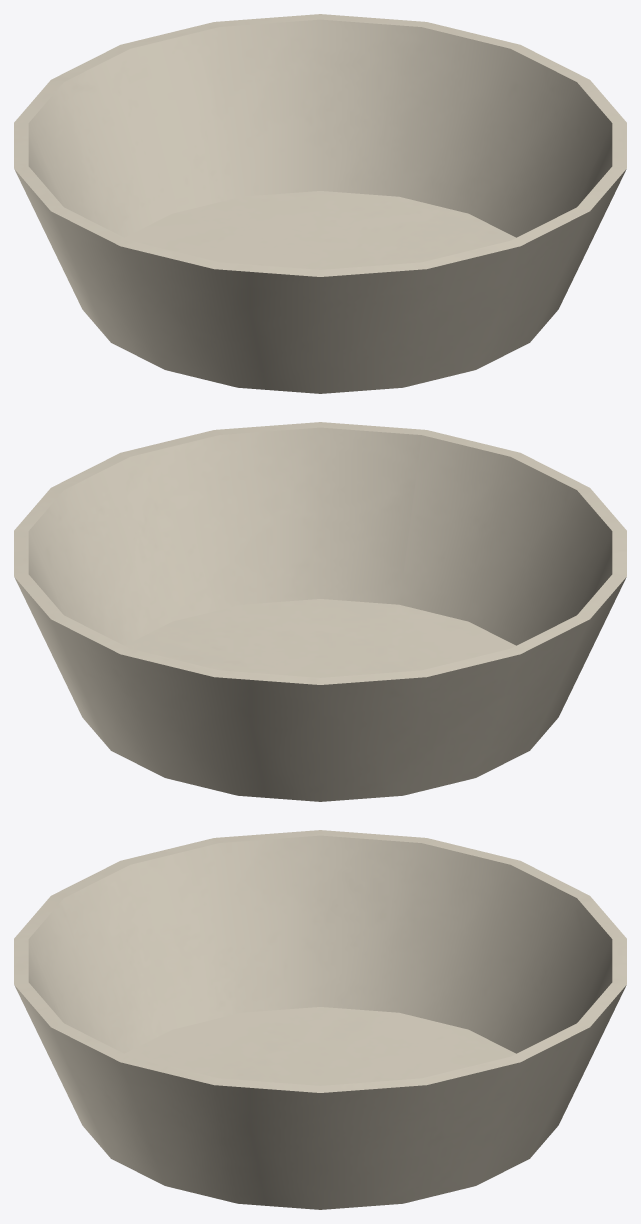
The model's file is Bowl.fbx.
The picture shows the model from 3 angles, top to bottom: view 1: azimuth 30°, elevation 25°; view 2: azimuth 150°, elevation 25°; view 3: azimuth 270°, elevation 25°; orthographic projection.
Parts seen in each view (by area): view 1: Bowl; view 2: Bowl; view 3: Bowl.
Boxes of the visible parts, <box> form: Bowl: <box>14,14,626,393</box>; Bowl: <box>14,422,626,801</box>; Bowl: <box>14,830,626,1209</box>.
Bounding box in the file's own units: 19.44 × 5.07 × 19.15.
